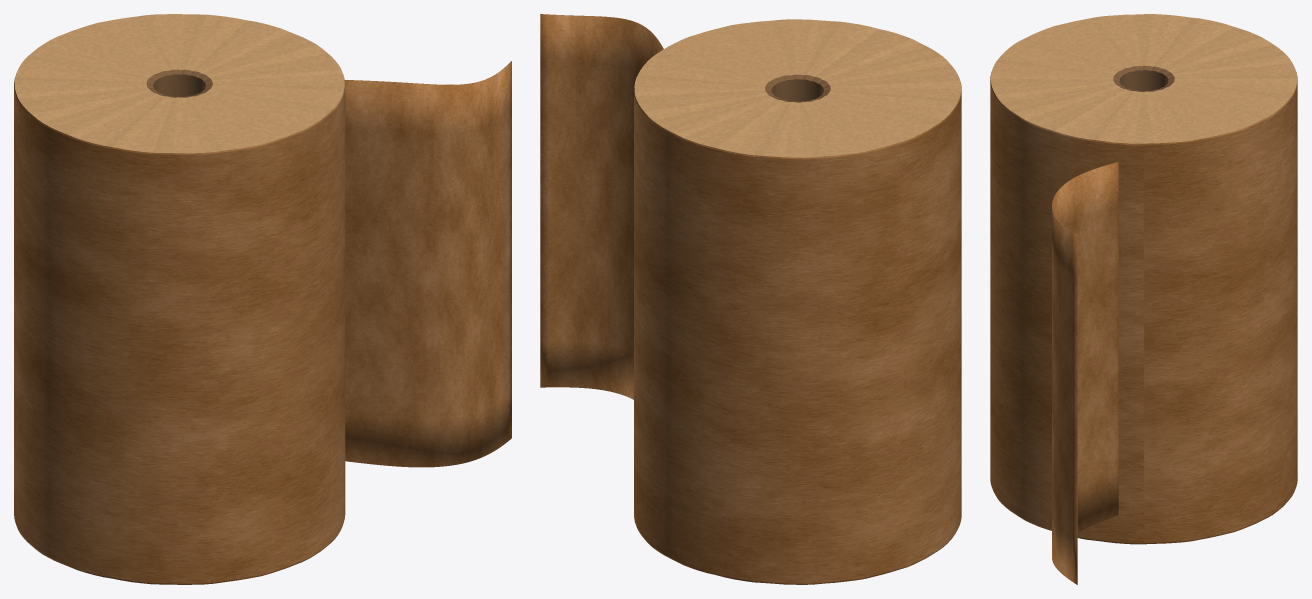
The model's file is kraft-roll.glb.
3 views of the same model, side by side, from view 1: azimuth 30°, elevation 25°; view 2: azimuth 150°, elevation 25°; view 3: azimuth 270°, elevation 25° (orthographic). The views are drawn at different scales.
Visible parts, largest first — view 1: Wound roll band.001, Peeled kraft sheet, Wound roll band.003, Wound roll band.005, Wound roll band.002; view 2: Wound roll band.001, Peeled kraft sheet, Wound roll band.003, Wound roll band.005, Wound roll band.002, Wound roll band.004, Wound roll band; view 3: Wound roll band.001, Wound roll band.003, Peeled kraft sheet, Wound roll band.005, Wound roll band.002, Wound roll band.004, Wound roll band.
Boxes of the visible parts, x1=… form: Wound roll band.001: x1=14, y1=87, x2=345, y2=583; Peeled kraft sheet: x1=344, y1=61, x2=511, y2=467; Wound roll band.003: x1=14, y1=14, x2=344, y2=153; Wound roll band.005: x1=153, y1=74, x2=205, y2=96; Wound roll band.002: x1=14, y1=75, x2=345, y2=154; Wound roll band.001: x1=634, y1=93, x2=961, y2=583; Peeled kraft sheet: x1=540, y1=14, x2=663, y2=399; Wound roll band.003: x1=634, y1=19, x2=961, y2=157; Wound roll band.005: x1=771, y1=79, x2=823, y2=101; Wound roll band.002: x1=634, y1=80, x2=961, y2=159; Wound roll band.004: x1=765, y1=74, x2=830, y2=102; Wound roll band: x1=637, y1=527, x2=958, y2=584; Wound roll band.001: x1=990, y1=83, x2=1297, y2=543; Wound roll band.003: x1=990, y1=14, x2=1297, y2=143; Peeled kraft sheet: x1=1052, y1=162, x2=1118, y2=584; Wound roll band.005: x1=1119, y1=70, x2=1168, y2=91; Wound roll band.002: x1=990, y1=72, x2=1297, y2=145; Wound roll band.004: x1=1113, y1=65, x2=1174, y2=91; Wound roll band: x1=994, y1=492, x2=1293, y2=544.
Size of the model in its own units: 0.981 by 0.9215 by 0.64.
Materials: 3 (2 with a texture image).
